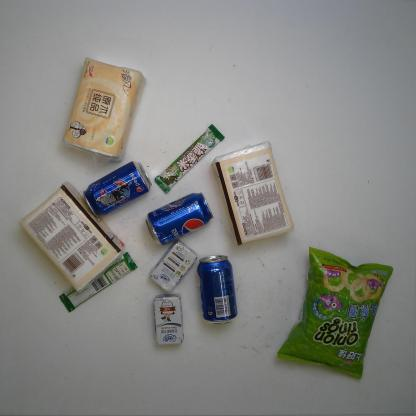Chocolate: (154, 121, 226, 195), (57, 250, 139, 314)
Drink: (82, 159, 152, 219), (143, 190, 215, 246), (196, 254, 238, 327)
Milk: (148, 237, 200, 294), (152, 292, 186, 348)
Puffed Food: (274, 246, 396, 380)
Tissue: (17, 178, 126, 294), (61, 56, 147, 164), (210, 140, 295, 248)
